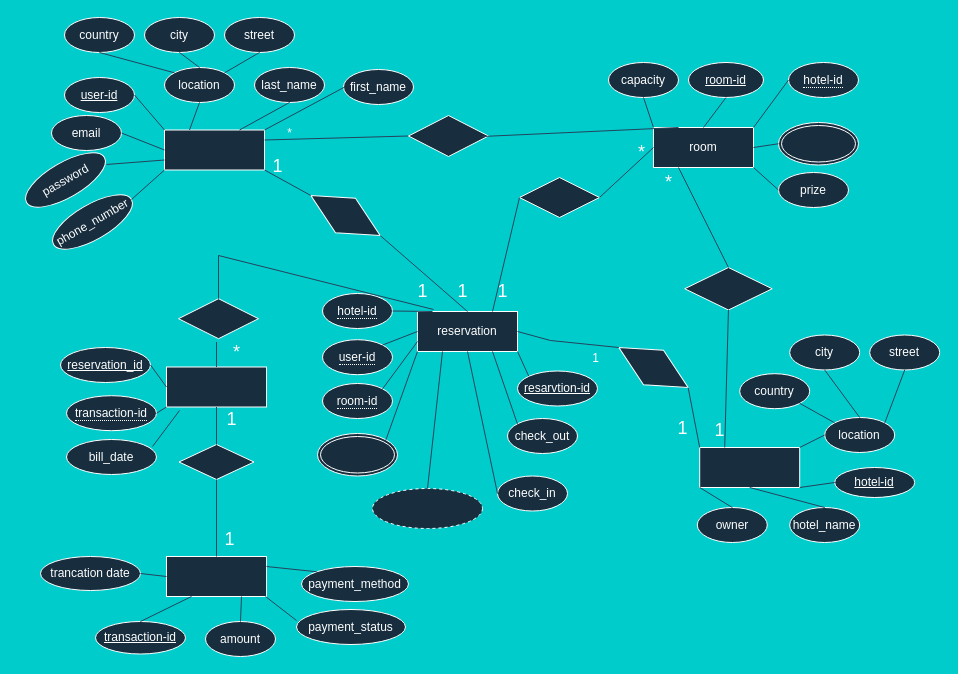
The diagram is 958 pixels wide and 674 high, and some of its shapes have lost their labels. The shapes that lost their labels are listed below. From the top down, each one's centre as x and y in pixels, then its label:
At (x=214, y=149): "Users".
At (x=818, y=143): "facilities".
At (x=216, y=386): "bill".
At (x=357, y=454): "gest_list".
At (x=749, y=467): "hotel".
At (x=427, y=508): "balance_amount".
At (x=216, y=576): "transactions".
